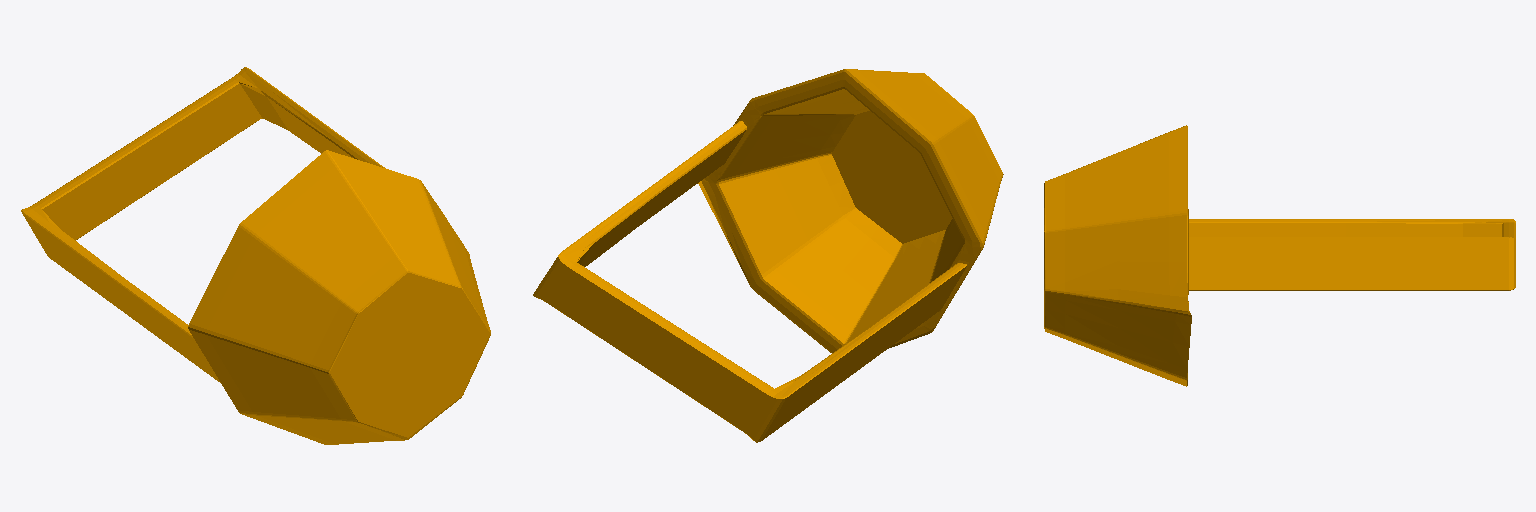
URDF robot description (143):
<?xml version="1.0" ?>
<robot name="143">
  <link name="body">
    <visual>
      <geometry>
        <mesh filename="../shapes/143.obj"/>
      </geometry>
    </visual>
    <collision>
      <geometry>
        <mesh filename="../shapes/143.obj"/>
      </geometry>
    </collision>
  </link>
</robot>

--- What the picture shows (computed from the rendered views, not written in the file) ---
Views: 3 orthographic renders of the robot side by side, from view 1: azimuth 30°, elevation 25°; view 2: azimuth 150°, elevation 25°; view 3: azimuth 270°, elevation 25°.
Robot: 143 — 1 links, 0 joints (none); root link body; default pose: every joint at zero.
Visible links, largest first — view 1: body; view 2: body; view 3: body.
Link boxes in pixels (x1,y1,x2,y2): body: (21, 67, 490, 444); body: (533, 69, 1003, 442); body: (1044, 125, 1515, 386).
Bounding box of the posed robot: 3.09 × 5.02 × 3.07 m (x, y, z).
1 mesh visuals loaded from 1 distinct referenced files (1 OBJ).